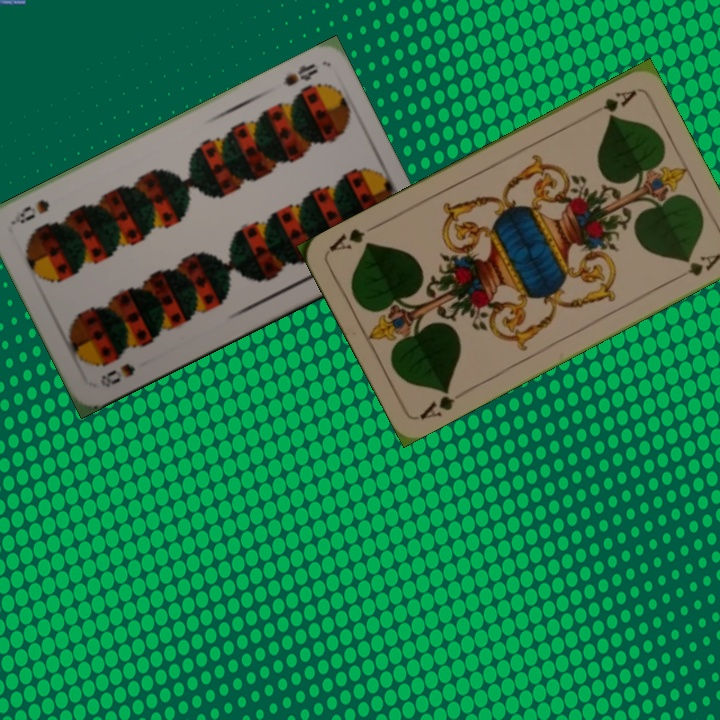GA: (415, 383, 470, 422), (598, 86, 639, 115)
S8: (96, 359, 138, 390), (278, 59, 321, 89)
